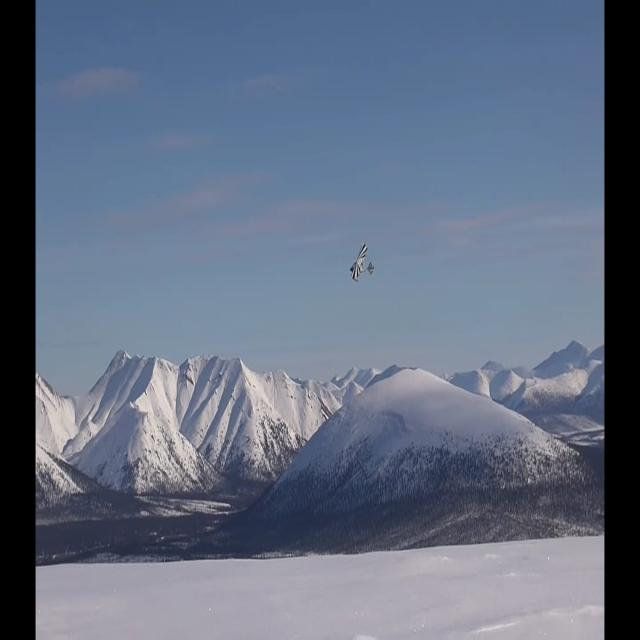iha: (350, 236, 374, 277)
